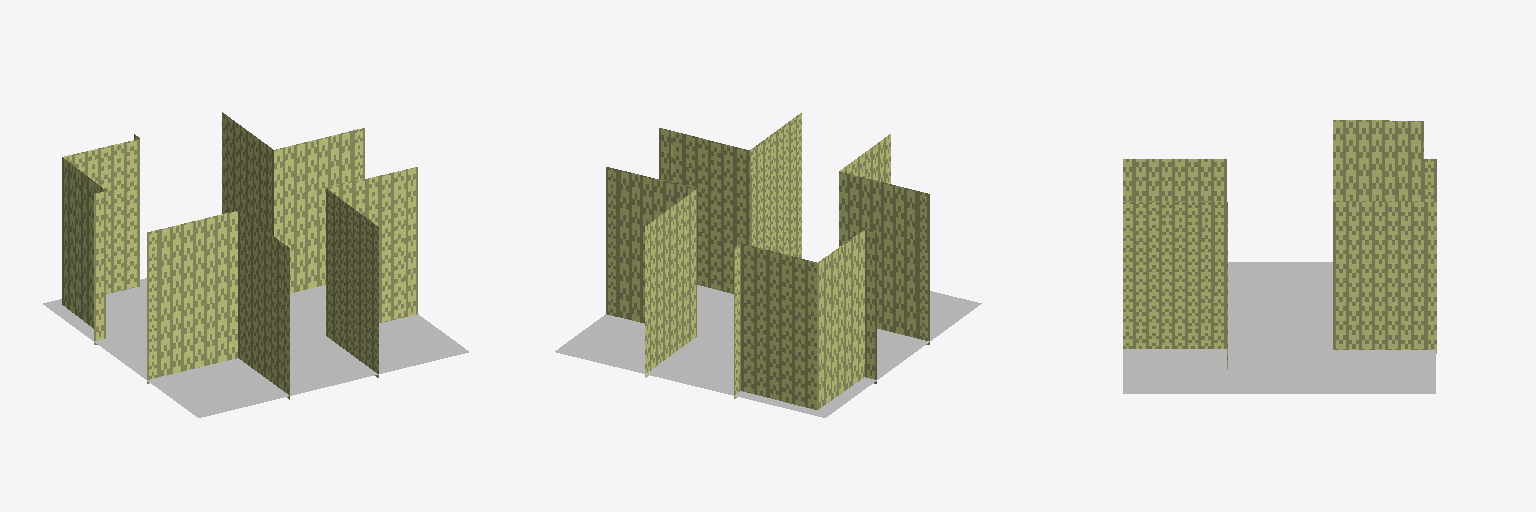
3 views of the same model, side by side, from view 1: azimuth 30°, elevation 25°; view 2: azimuth 150°, elevation 25°; view 3: azimuth 270°, elevation 25° (orthographic).
Visible parts, largest first — view 1: Cube.003_Cube.007, Plane, Cube.002_Cube.005, Cube_Cube.001, Cube.001_Cube.006; view 2: Cube.001_Cube.006, Cube.002_Cube.005, Cube_Cube.001, Plane, Cube.003_Cube.007; view 3: Plane, Cube.002_Cube.005, Cube_Cube.001, Cube.001_Cube.006, Cube.003_Cube.007.
Boxes of the visible parts, <box> form: Cube.003_Cube.007: <box>147,211,289,399</box>; Plane: <box>43,278,468,417</box>; Cube.002_Cube.005: <box>326,167,417,377</box>; Cube_Cube.001: <box>222,112,364,293</box>; Cube.001_Cube.006: <box>62,134,139,344</box>; Cube.001_Cube.006: <box>734,230,876,409</box>; Cube.002_Cube.005: <box>659,113,801,293</box>; Cube_Cube.001: <box>606,167,696,377</box>; Plane: <box>555,285,981,417</box>; Cube.003_Cube.007: <box>839,134,929,344</box>; Plane: <box>1123,262,1435,393</box>; Cube.002_Cube.005: <box>1123,202,1227,369</box>; Cube_Cube.001: <box>1333,202,1436,353</box>; Cube.001_Cube.006: <box>1333,120,1436,201</box>; Cube.003_Cube.007: <box>1123,159,1226,201</box>.
Bounding box in the file's own units: 12 × 6.41 × 12.03.
5 materials, 1 textured.